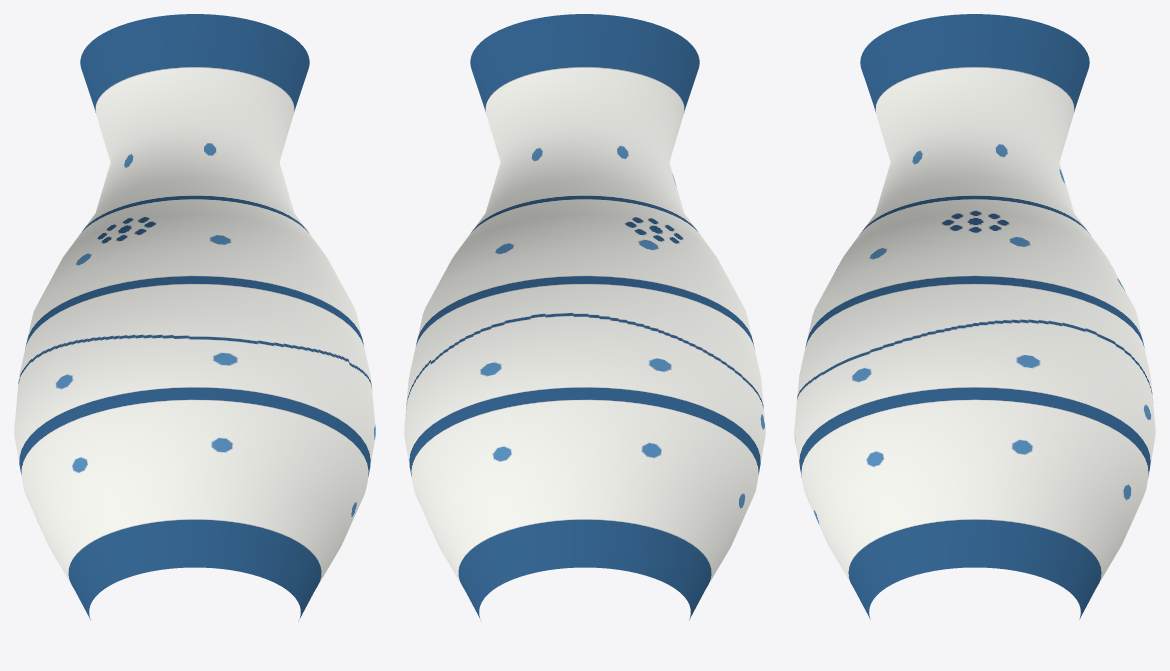
3 renders of one model, left to right at view 1: azimuth 30°, elevation 25°; view 2: azimuth 150°, elevation 25°; view 3: azimuth 270°, elevation 25°, orthographic.
Size of the model in its own units: 1.64 by 2.75 by 1.64.
1 material, 1 textured.
